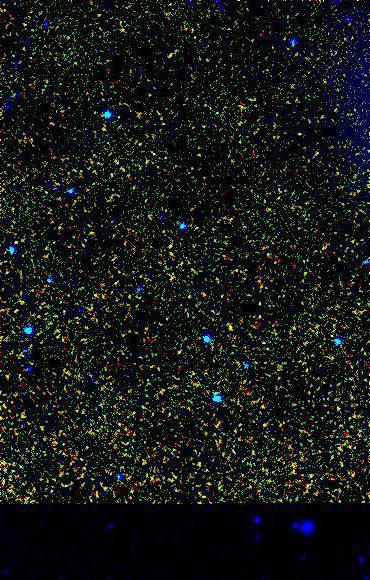star: (214, 312, 244, 342)
